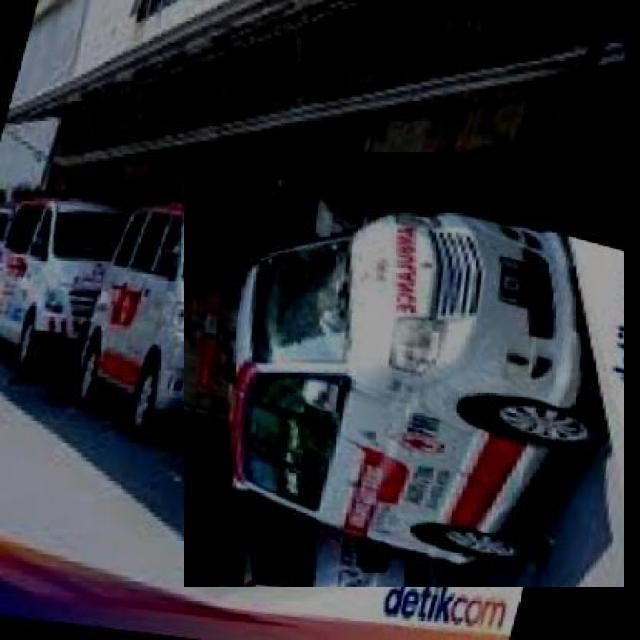emergency-vehicle: (184, 150, 624, 588)
